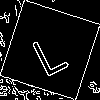L: (25, 25, 71, 78)
